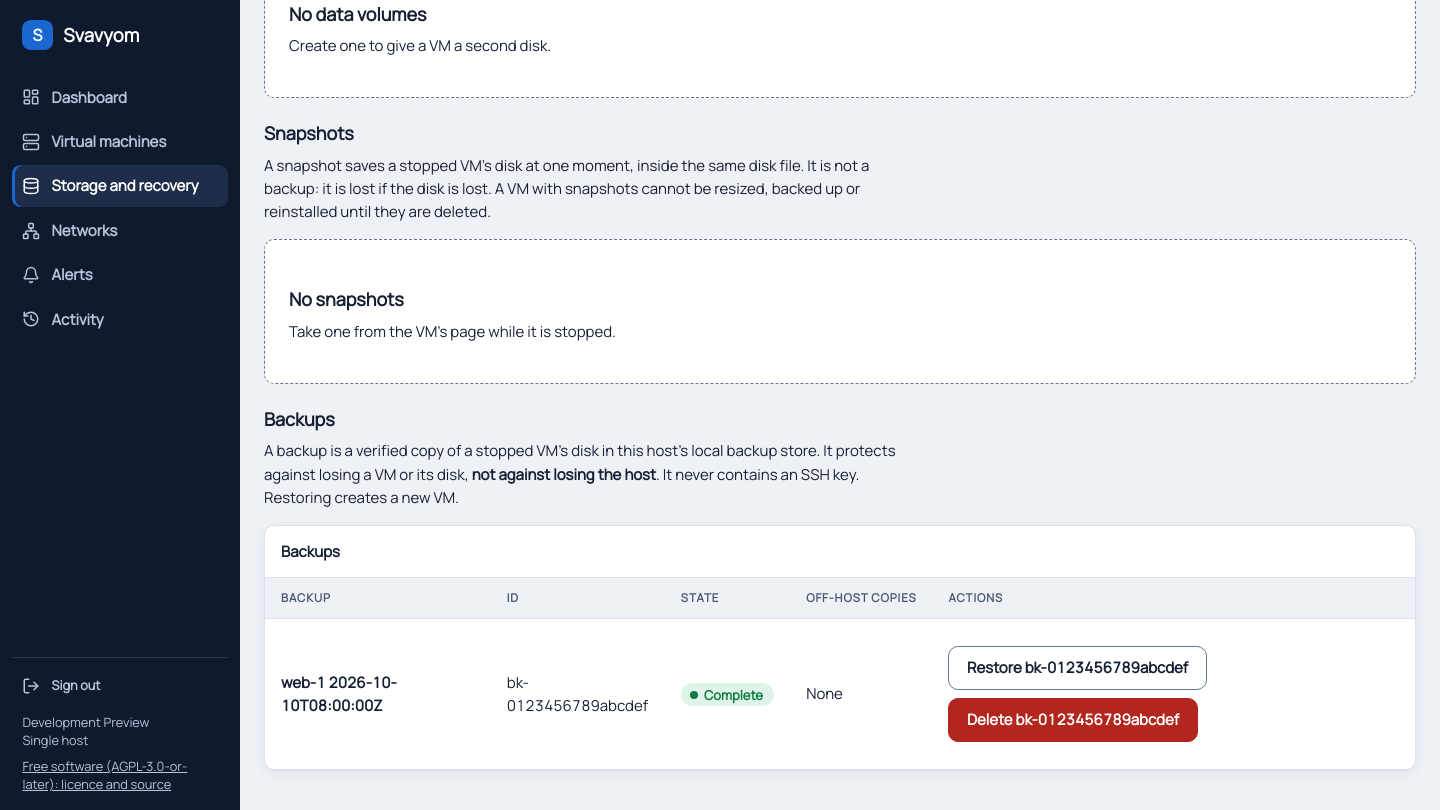
Test: storage overview › deletes a backup with the Backup kind and no params
(page scrolled)
What coordinates should you click on to do the following:
click the button "Delete bk-0123456789abcdef"
I would click on:
 (1073, 720)
Its box is top-left (948, 698), bottom-right (1198, 742).
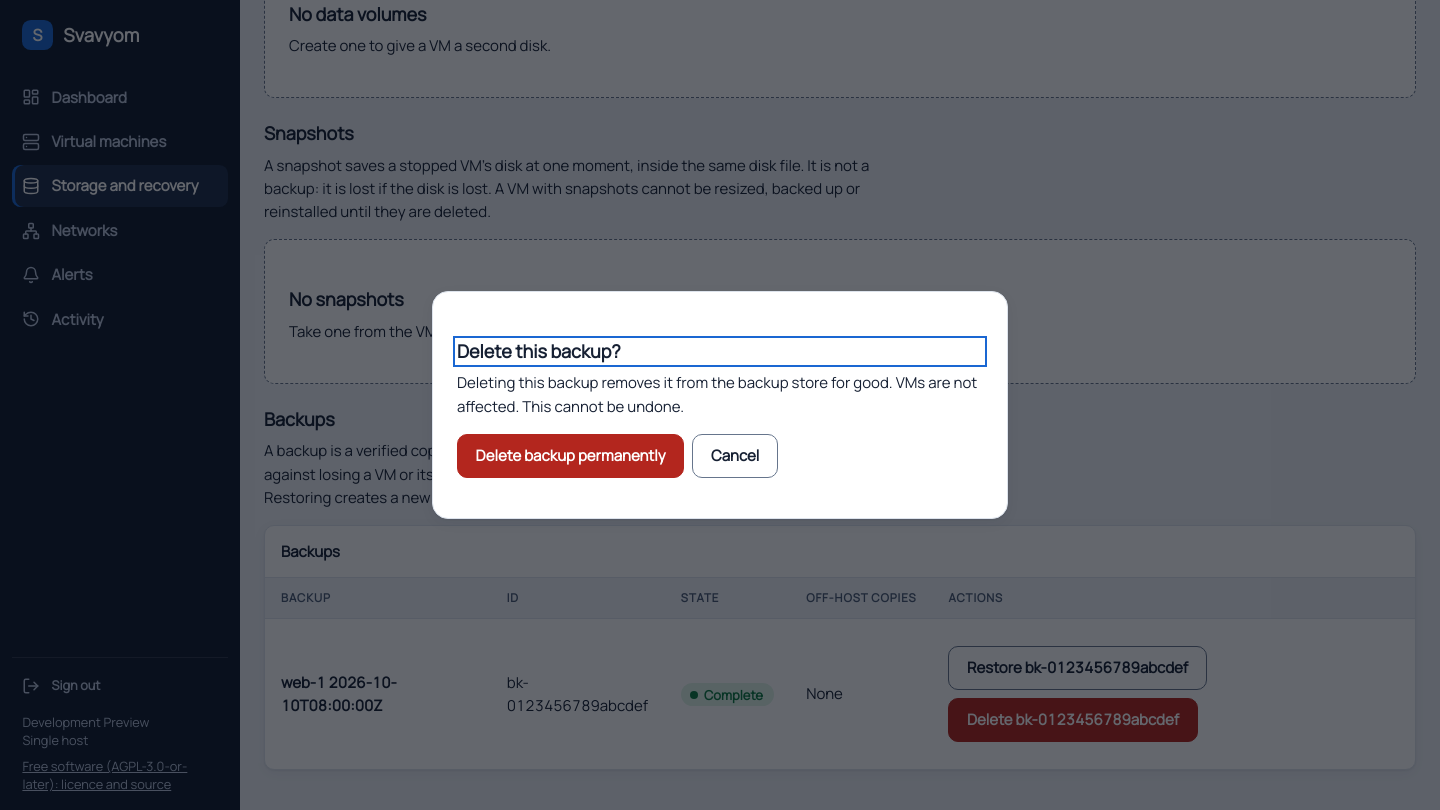
What coordinates should you click on to do the following:
click the button "Delete backup permanently"
I would click on:
 (571, 456)
Its box is top-left (457, 434), bottom-right (684, 478).
(page scrolled)
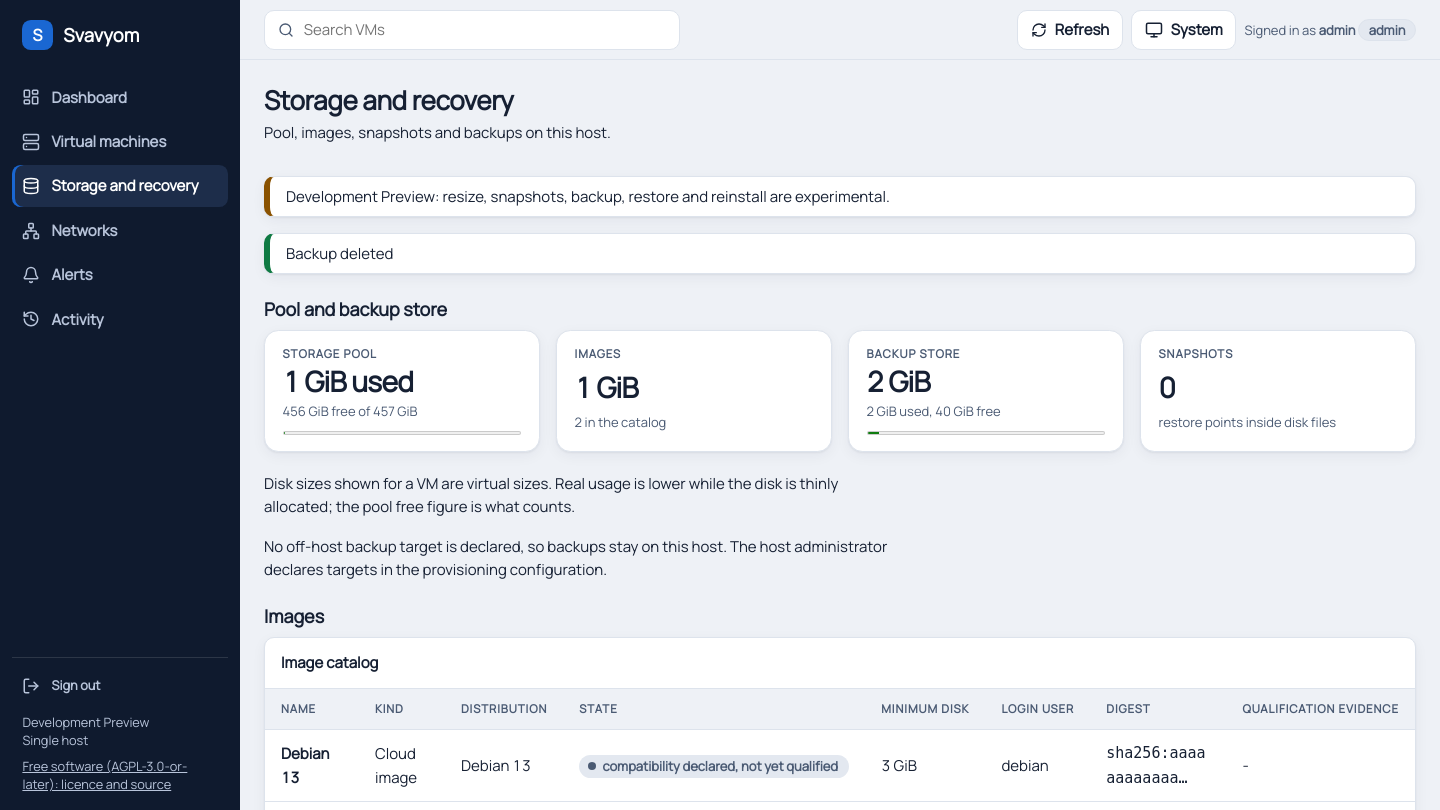
Check: the text "Backup deleted" is shown, box top-left (264, 233), bottom-right (1416, 274)
